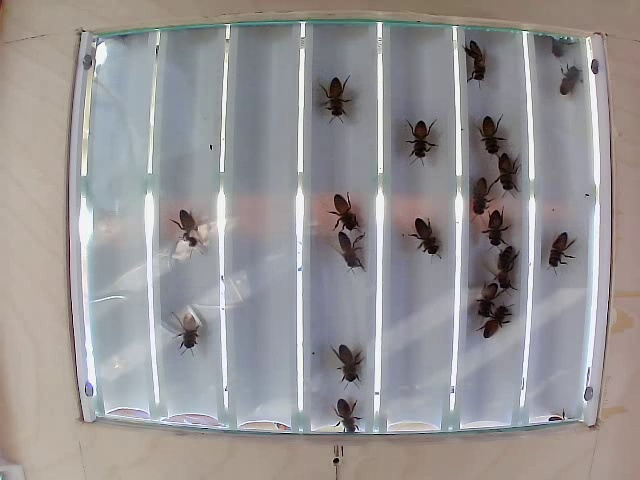bee: (407, 215, 447, 265), (463, 40, 500, 94), (166, 311, 210, 351), (319, 343, 372, 376), (320, 68, 354, 119), (473, 109, 503, 165), (171, 208, 205, 257), (331, 229, 368, 270), (466, 173, 494, 227), (330, 189, 361, 237), (331, 393, 363, 437), (491, 151, 525, 191), (412, 111, 436, 165), (486, 296, 514, 339), (491, 244, 522, 280), (556, 62, 581, 106), (479, 210, 506, 248), (474, 283, 501, 321), (555, 228, 572, 282)
